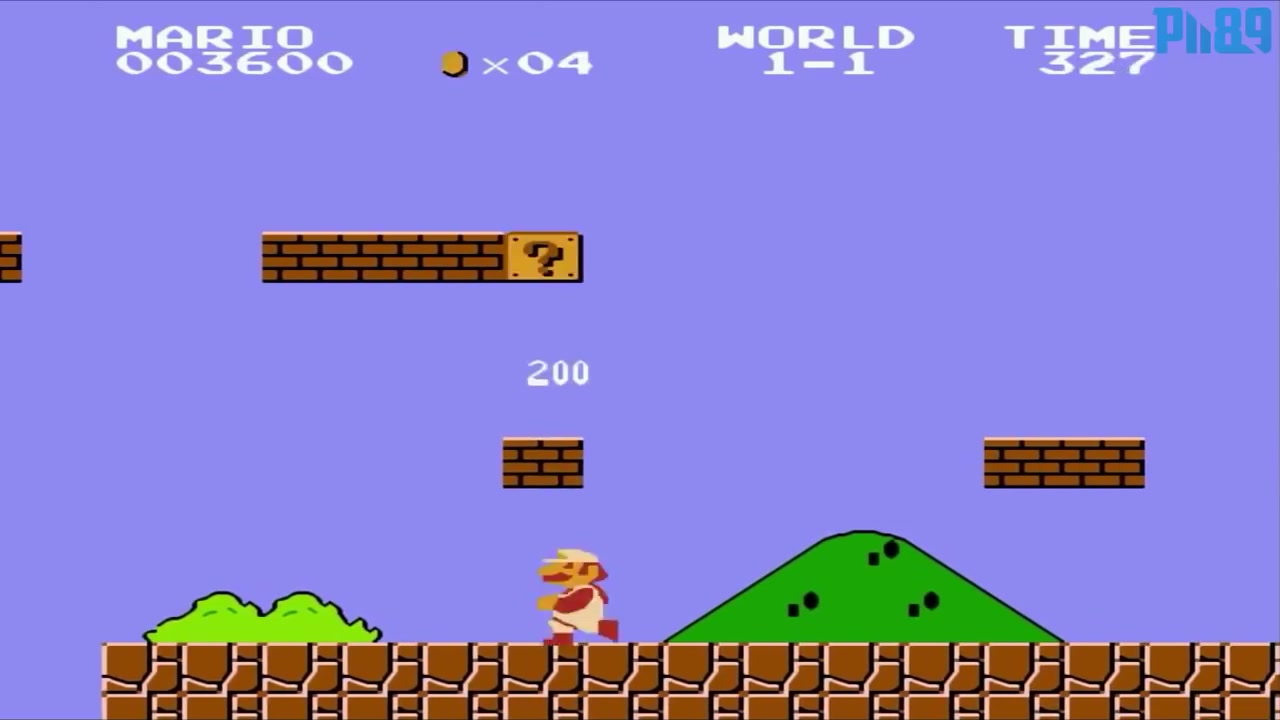mario: (537, 532, 628, 652)
